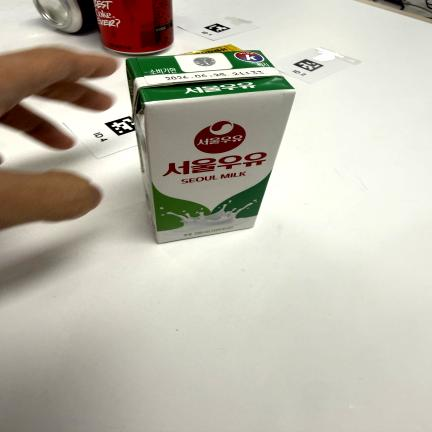milk_green: (126, 50, 295, 243)
